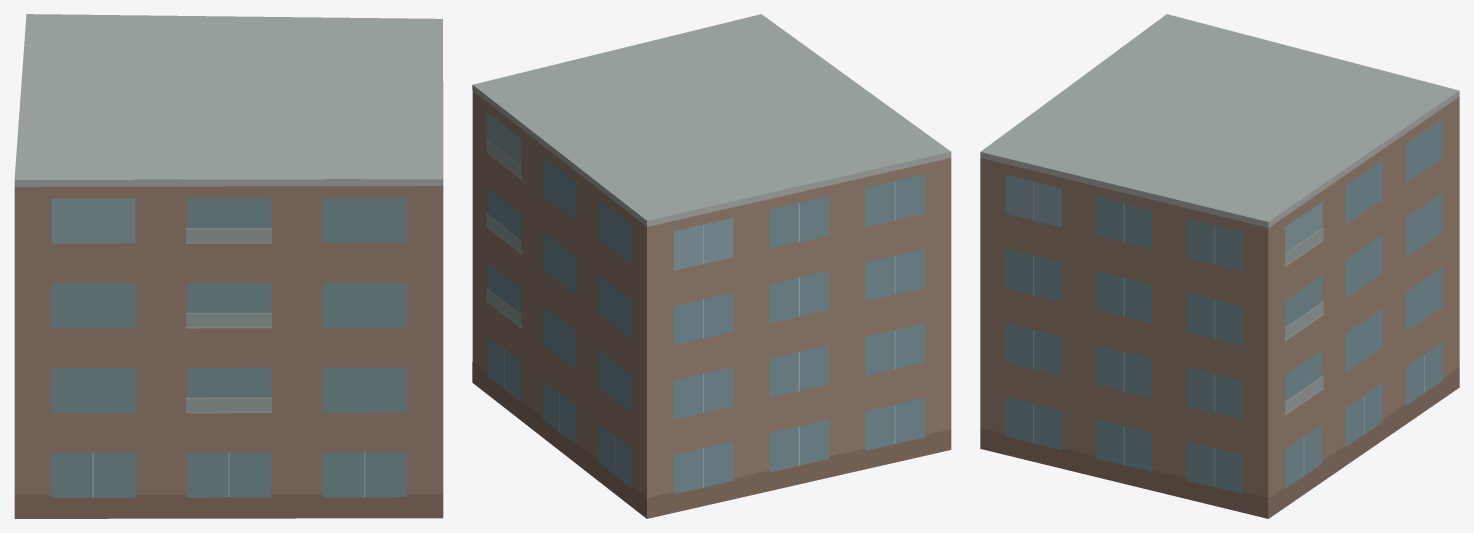
Rendered from survey-upis-32705773.glb.
3 views of the same model, side by side, from view 1: azimuth 30°, elevation 25°; view 2: azimuth 150°, elevation 25°; view 3: azimuth 270°, elevation 25° (orthographic). The views are drawn at different scales.
Parts seen in each view (by area): view 1: survey-upis-32705773.tmp; view 2: survey-upis-32705773.tmp; view 3: survey-upis-32705773.tmp.
Part boxes in pixels (x1=…): survey-upis-32705773.tmp: x1=14, y1=14, x2=443, y2=518; survey-upis-32705773.tmp: x1=472, y1=14, x2=951, y2=518; survey-upis-32705773.tmp: x1=980, y1=14, x2=1459, y2=518.
Size of the model in its own units: 18.11 by 12.05 by 17.64.
